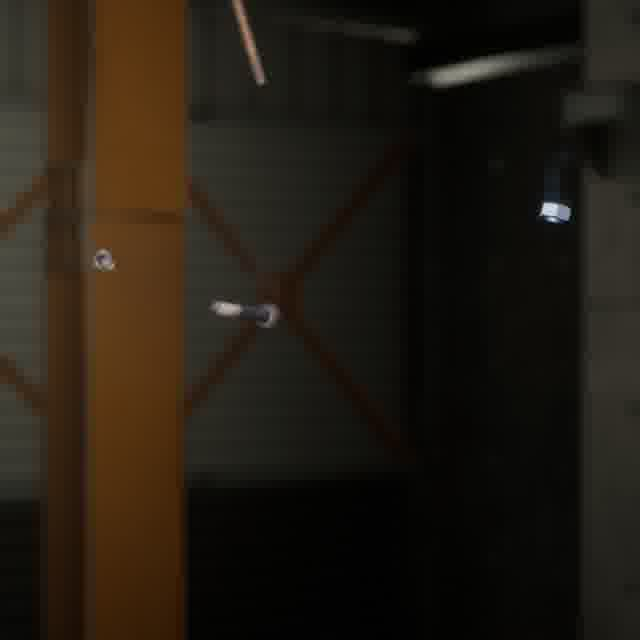bolt: (224, 0, 270, 90), (205, 295, 285, 332), (87, 243, 120, 275)
nut: (534, 197, 575, 228)
